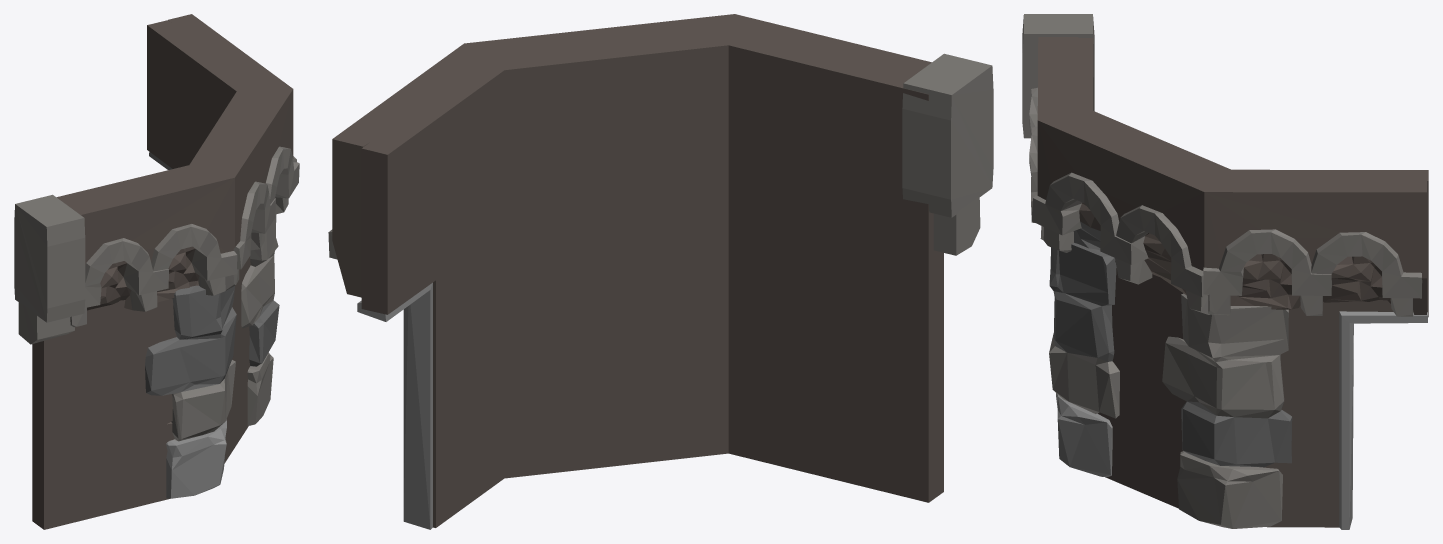
The model's file is MCastle_OctWalls_ArchCarbels_Door_02.FBX.
3 views of the same model, side by side, from view 1: azimuth 30°, elevation 25°; view 2: azimuth 150°, elevation 25°; view 3: azimuth 270°, elevation 25° (orthographic). The views are drawn at different scales.
Parts seen in each view (by area): view 1: MCastle_OctWalls_ArchCarbels_Door_02_LOD0; view 2: MCastle_OctWalls_ArchCarbels_Door_02_LOD0; view 3: MCastle_OctWalls_ArchCarbels_Door_02_LOD0.
Part boxes in pixels (x1,y1,x2,y2): MCastle_OctWalls_ArchCarbels_Door_02_LOD0: (14,14,299,529); MCastle_OctWalls_ArchCarbels_Door_02_LOD0: (328,14,993,529); MCastle_OctWalls_ArchCarbels_Door_02_LOD0: (1022,14,1428,529).
Size of what is drawn, in the model's own units: 194 by 178 by 186.
